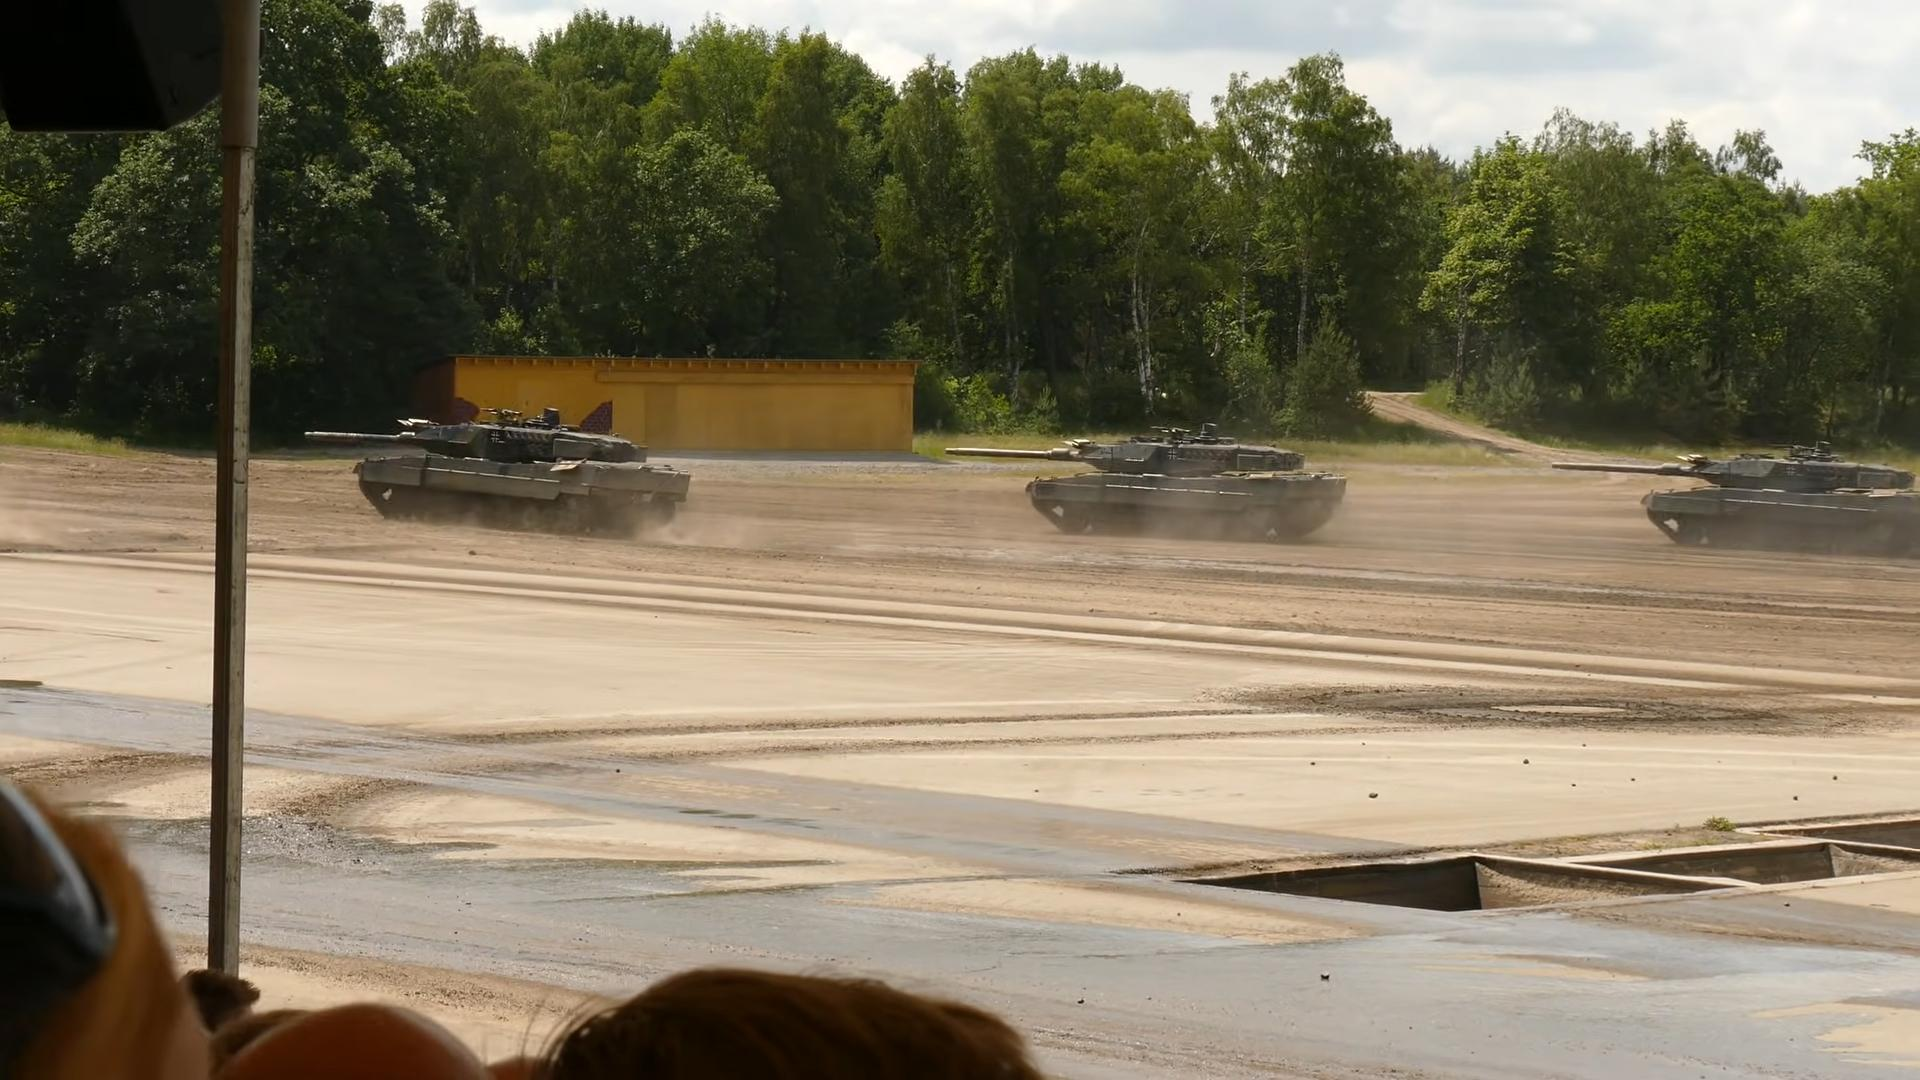tank: (302, 398, 691, 539), (944, 419, 1348, 542), (1551, 440, 1919, 558)
